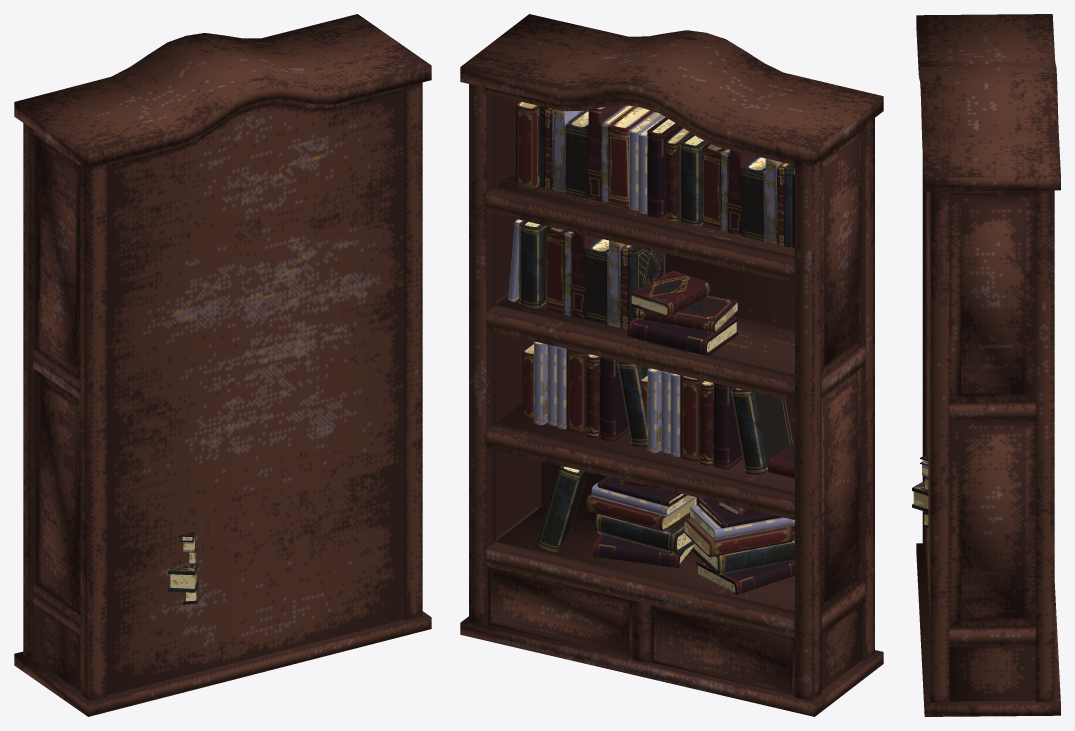
File: bookshelf_03.fbx
The picture shows the model from 3 angles, left to right: view 1: azimuth 30°, elevation 25°; view 2: azimuth 150°, elevation 25°; view 3: azimuth 270°, elevation 25°; orthographic projection. The views are drawn at different scales.
Parts seen in each view (by area): view 1: bookshelf1; view 2: bookshelf1; view 3: bookshelf1.
Part boxes in pixels (x1,y1,x2,y2): bookshelf1: (14,14,431,716); bookshelf1: (460,14,883,716); bookshelf1: (912,14,1060,716).
Size of the model in its own units: 189 by 302 by 72.7.
